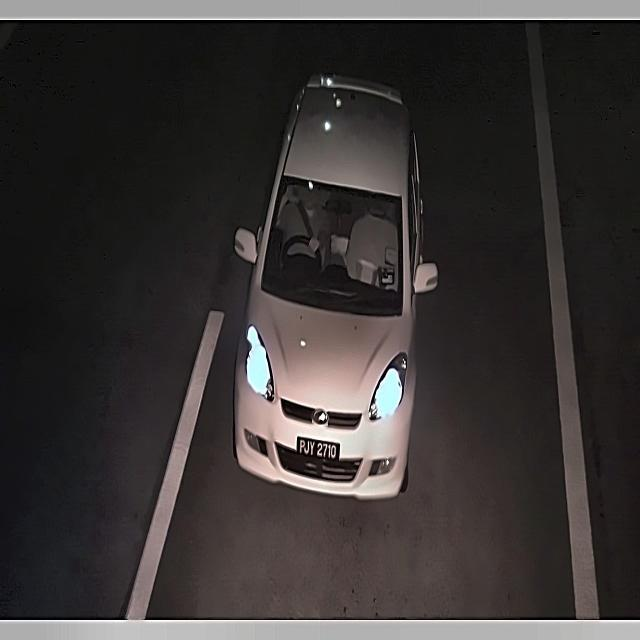car: (292, 433, 344, 465)
